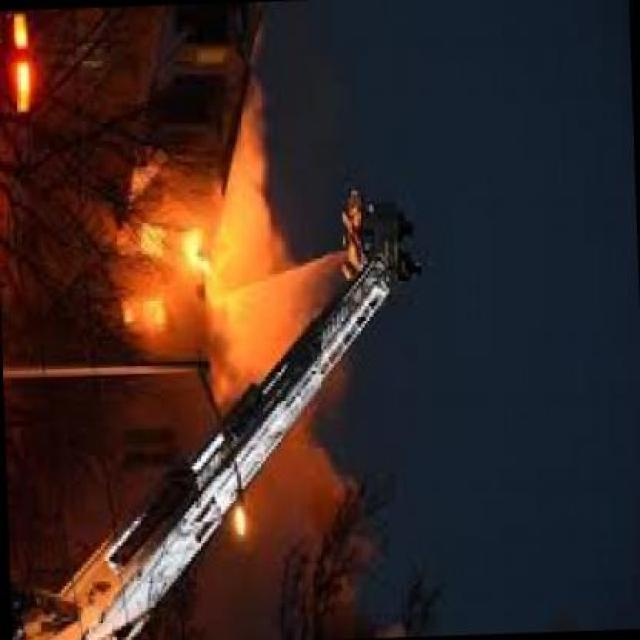Fire: (119, 220, 213, 333)
Smoke: (222, 137, 302, 390), (253, 462, 357, 640)
